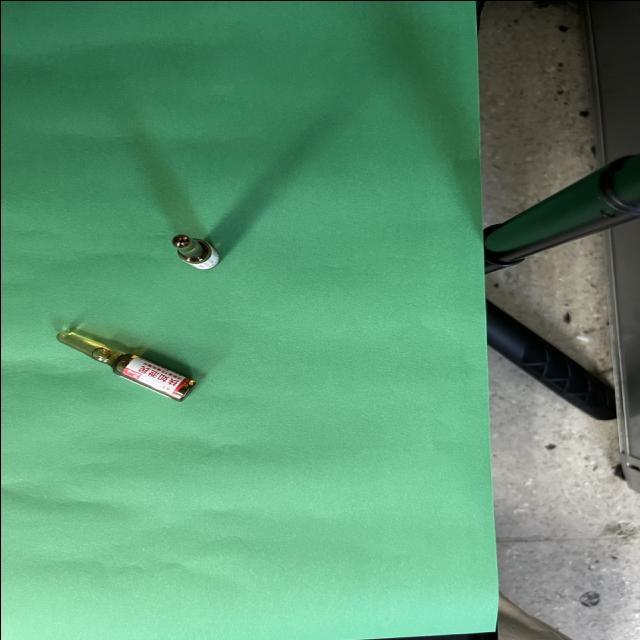Ampoules: (55, 330, 195, 400), (170, 232, 219, 268)
